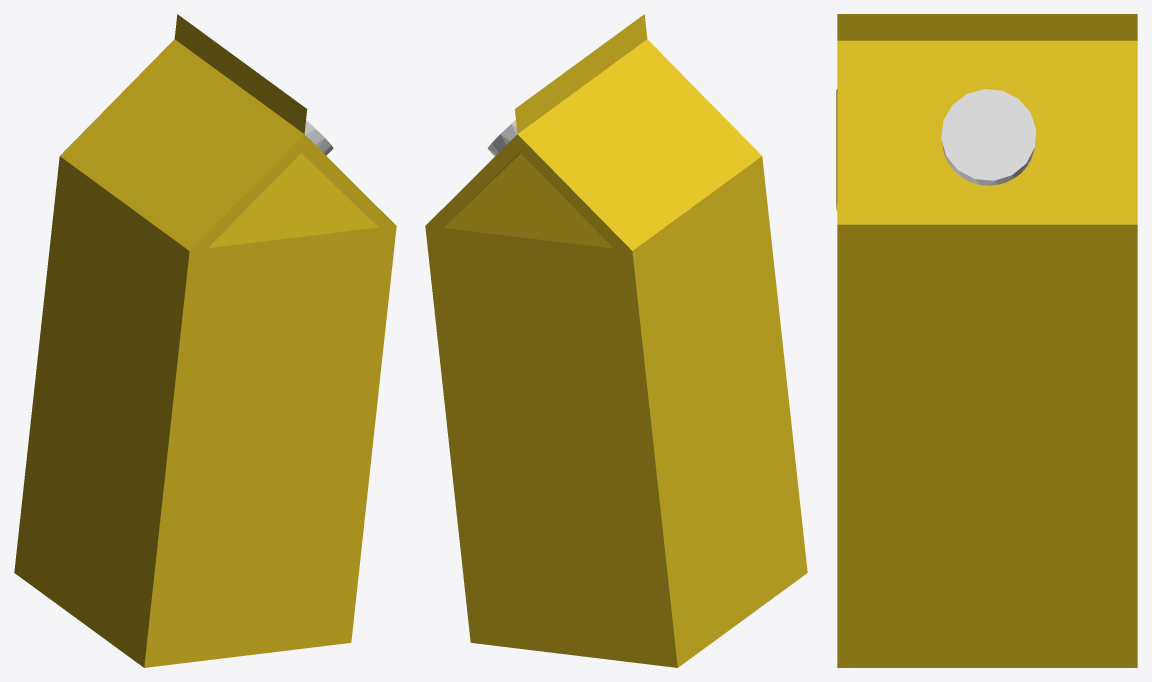
Rendered from Milk.fbx.
The picture shows the model from 3 angles, left to right: view 1: azimuth 30°, elevation 25°; view 2: azimuth 150°, elevation 25°; view 3: azimuth 270°, elevation 25°; orthographic projection. The views are drawn at different scales.
Visible parts, largest first — view 1: Milk Carton; view 2: Milk Carton; view 3: Milk Carton, Cork.
Part boxes in pixels (x1,y1,x2,y2): Milk Carton: (14, 14, 396, 667); Milk Carton: (425, 14, 807, 667); Milk Carton: (836, 14, 1137, 667); Cork: (941, 89, 1036, 185).
Bounding box in the file's own units: 34.41 × 70.9 × 30.79.
